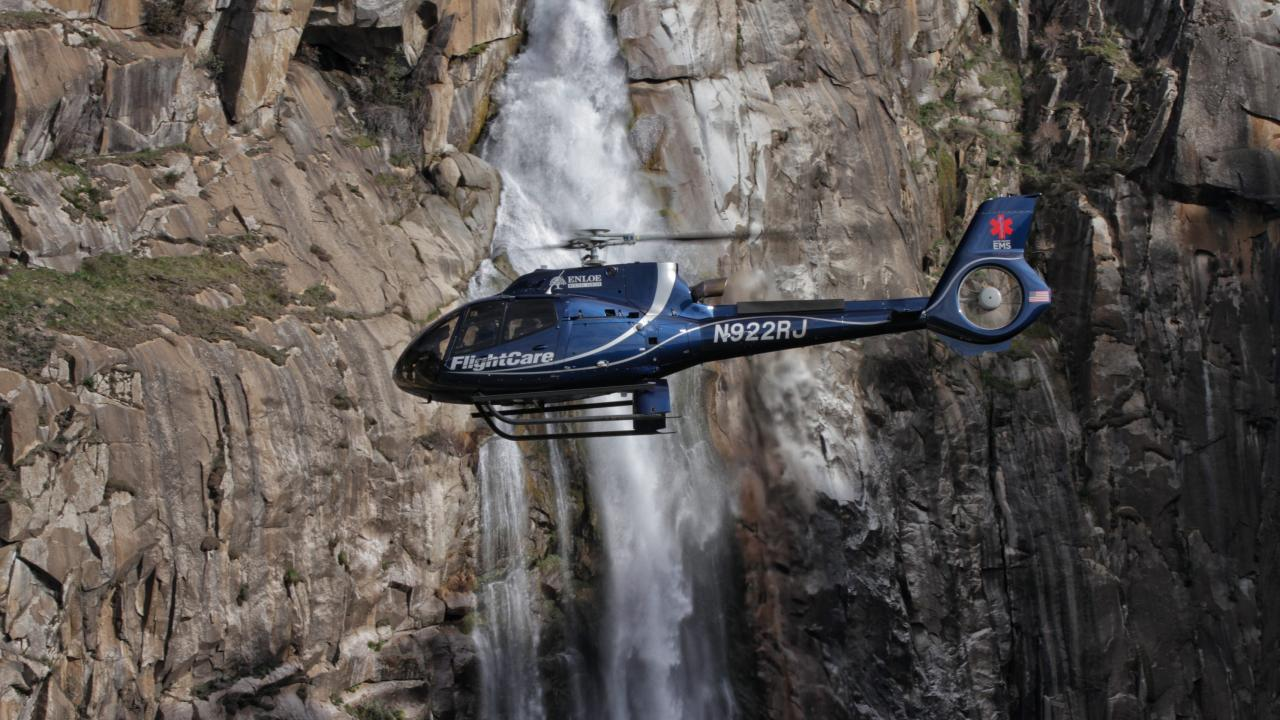Helicopter: (370, 183, 1096, 447)
